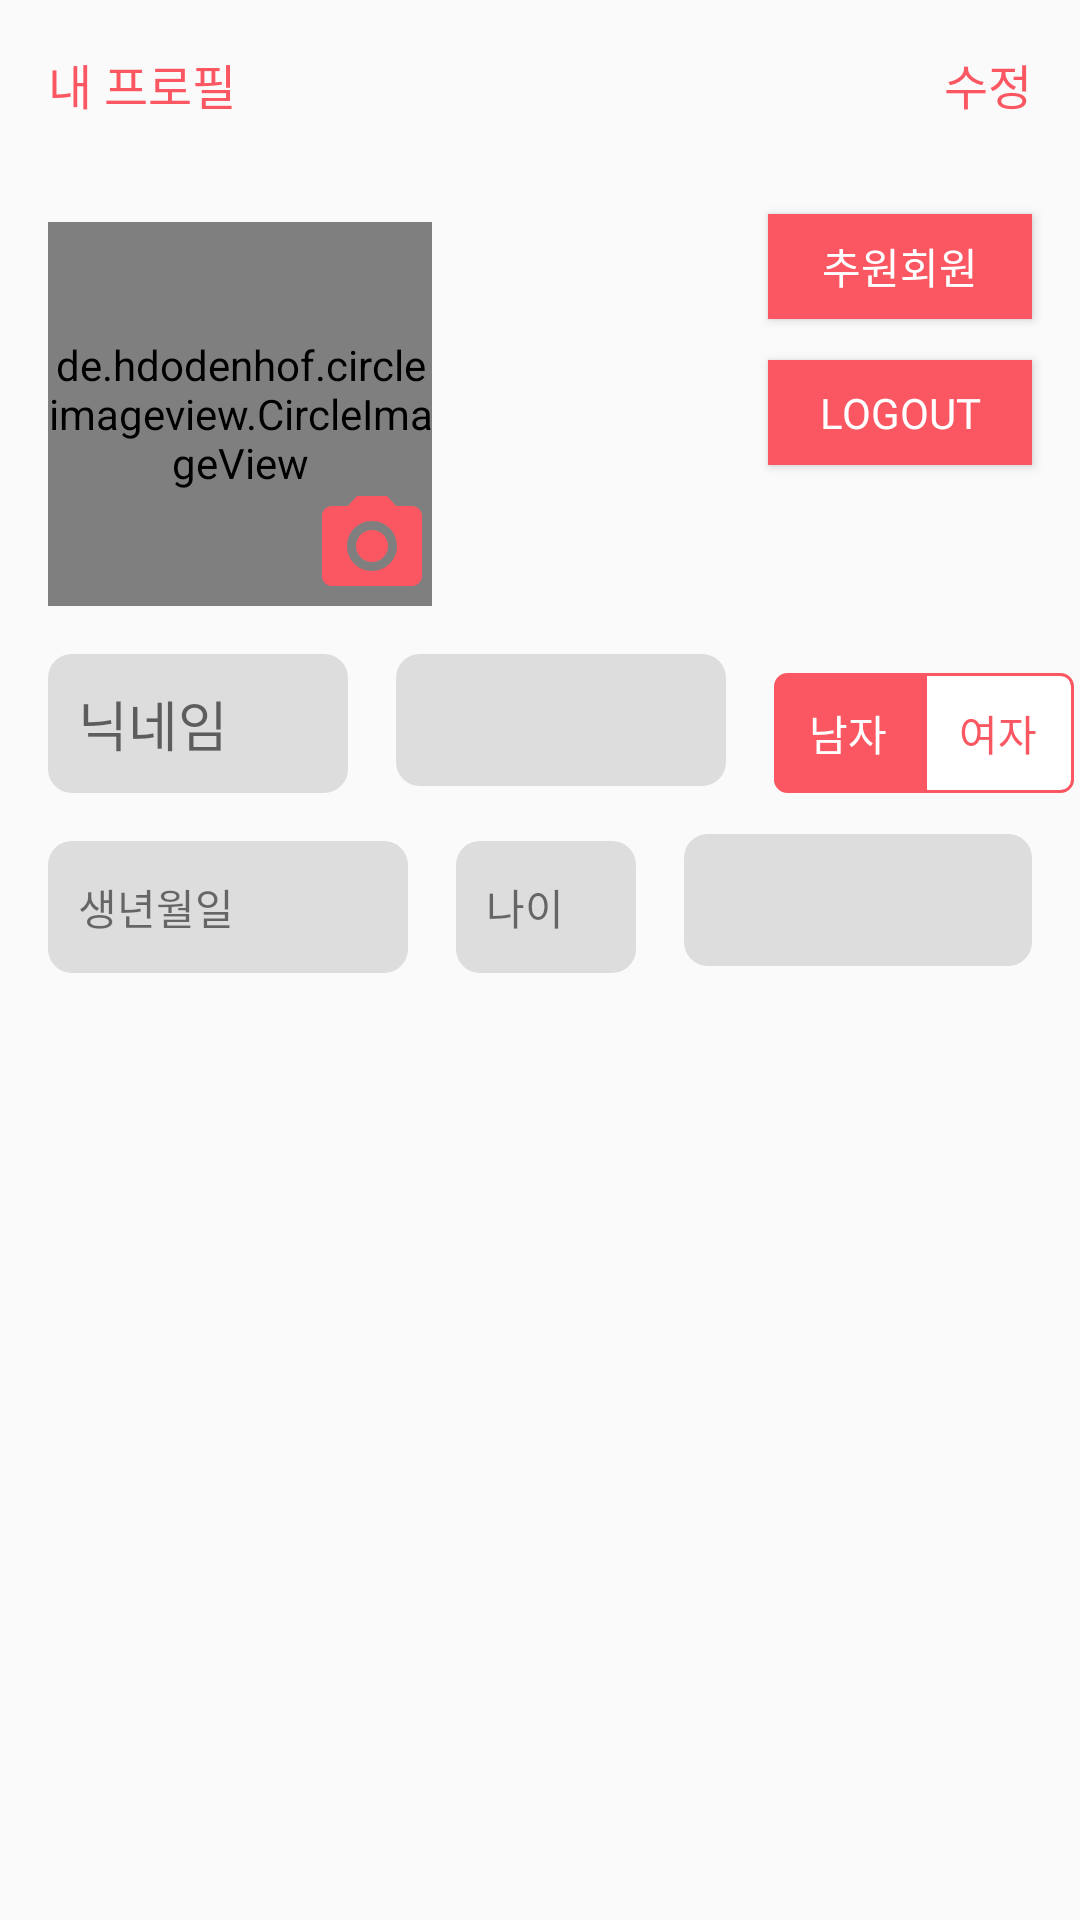

Where to tap for icons on this 1080 x 1920 app screen, as (x=x, y=y):
camera: (x=372, y=541)
